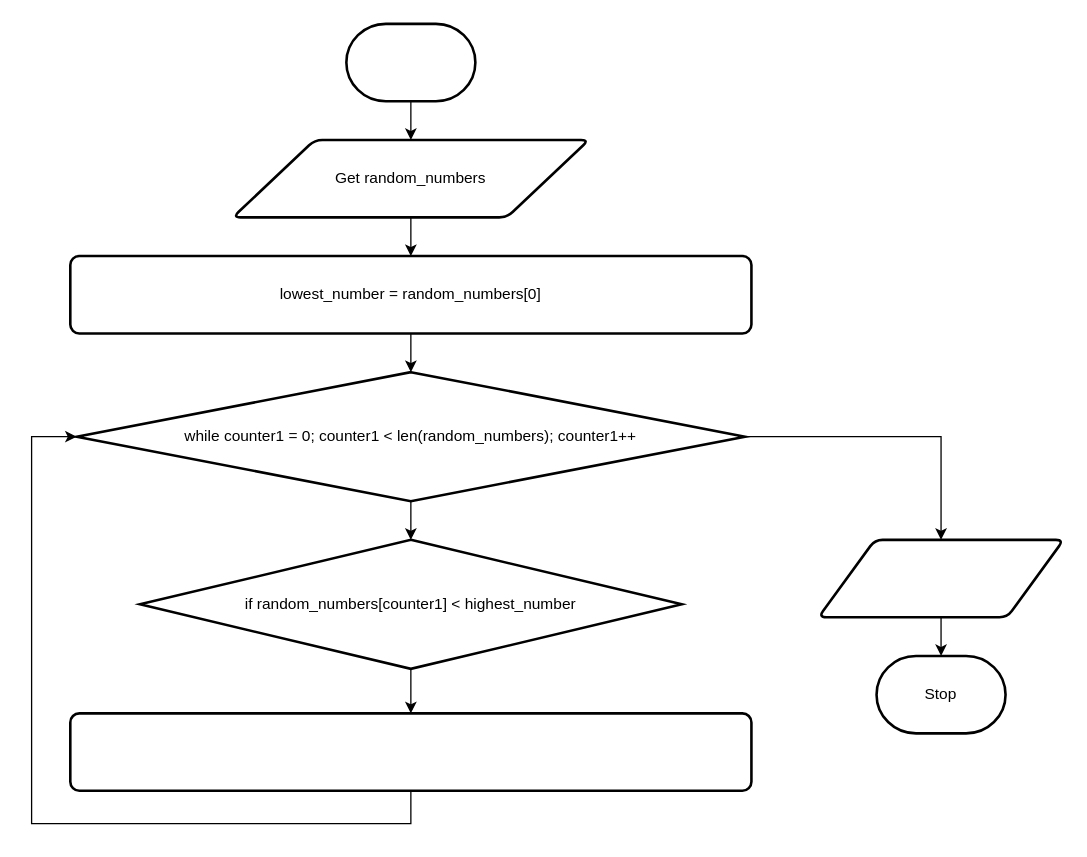
The diagram is 1087 pixels wide and 857 high, and some of its shapes have lost their labels. Here are the shapes that lost their labels. From the top down, the centre of each, then its label:
At [410,62]: "Start".
At [940,578]: "Return lowest_number".
At [410,751]: "lowest_number = random_numbers[counter1]".
